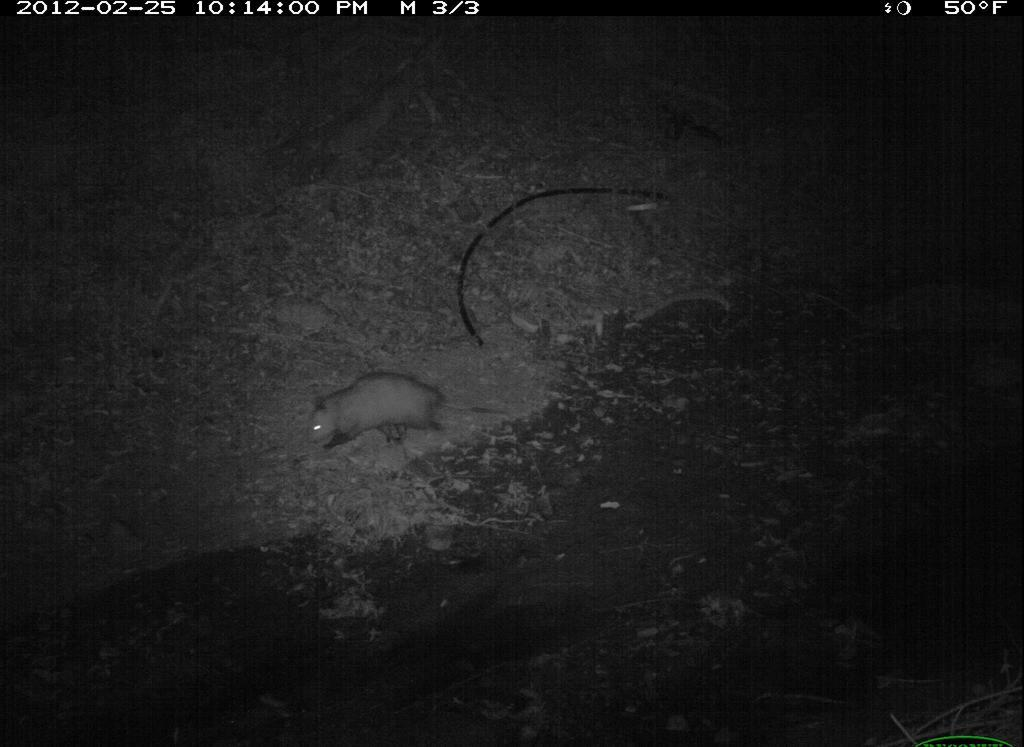opossum: (299, 367, 505, 459)
